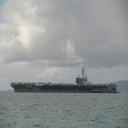Portanaves: (11, 66, 121, 94)
